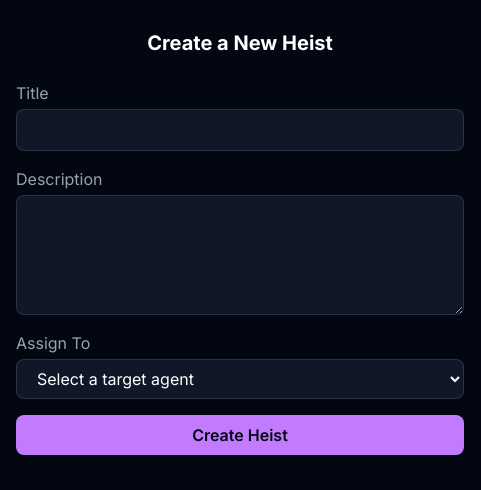
Test case: CreateHeistPage › shows an inline error message when addDoc fails
Type "Test Heist" into the field labelled "Title". click: (240, 130)
box: [16,109,464,151]
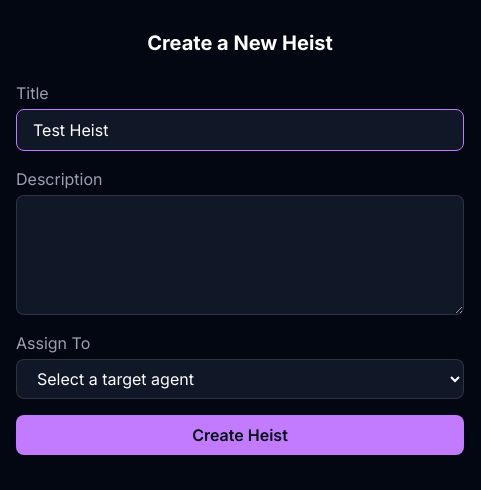
Type "Test description" into the text box labelled "Description". click: (240, 255)
box: [16,195,464,315]
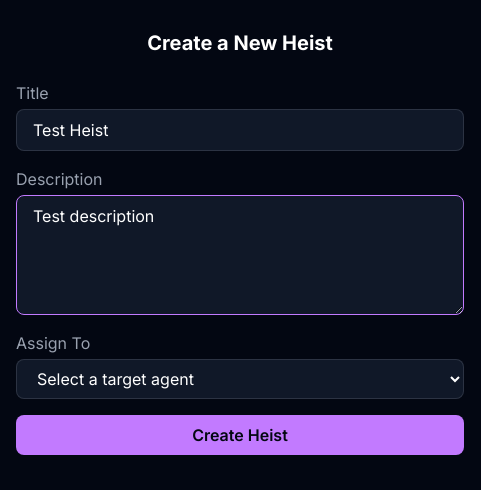
Select "NeonViper" in the dropdown labelled "Assign To". click: (240, 379)
box: [16,359,464,399]
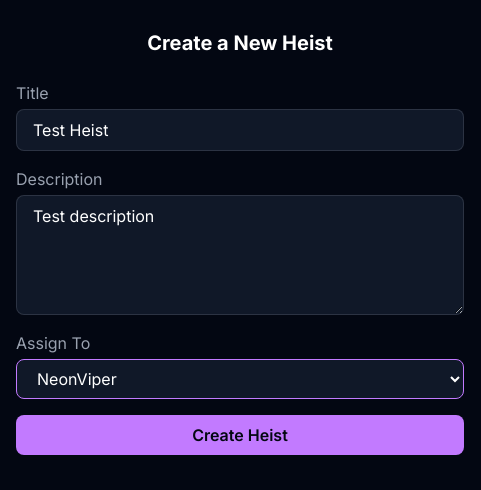
Click the button "Create Heist". click: (240, 435)
box: [16,415,464,455]
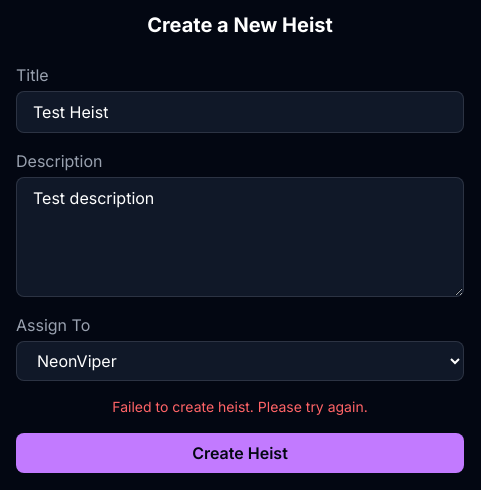
Result: the text "Failed to create heist. Please try again." is shown at [112,398,368,415]
